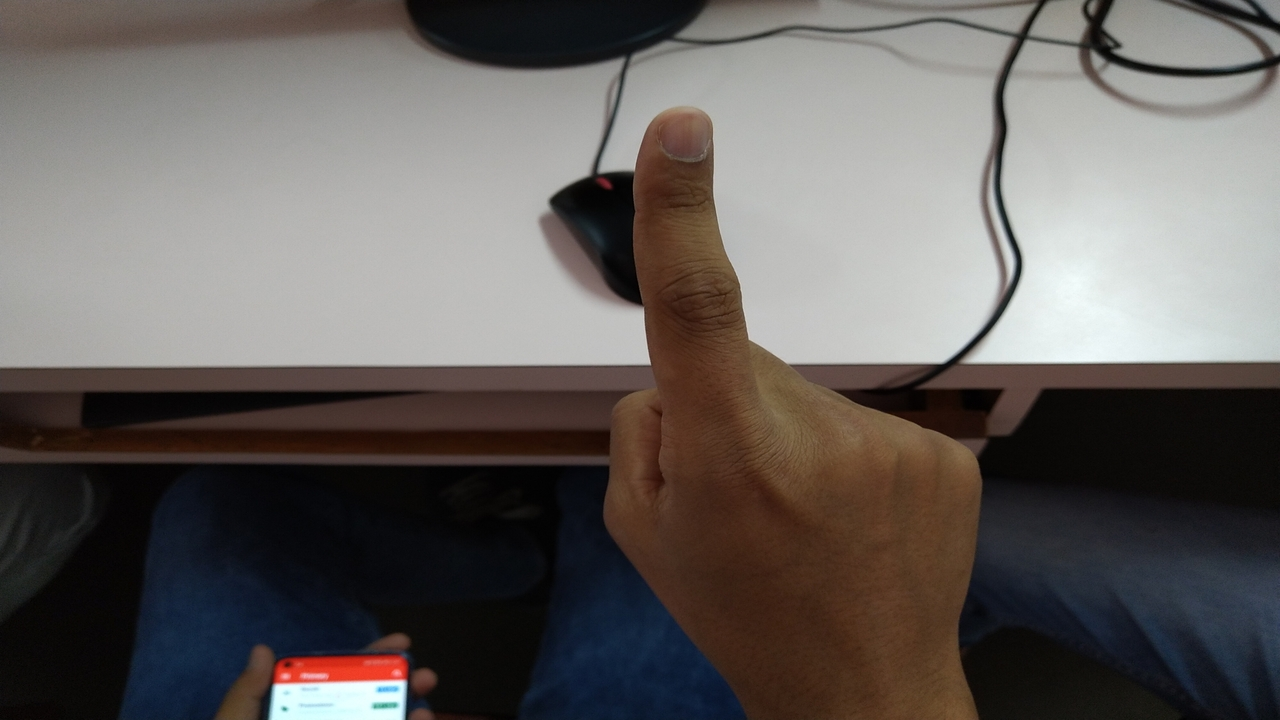fingertip: (642, 106, 716, 174)
